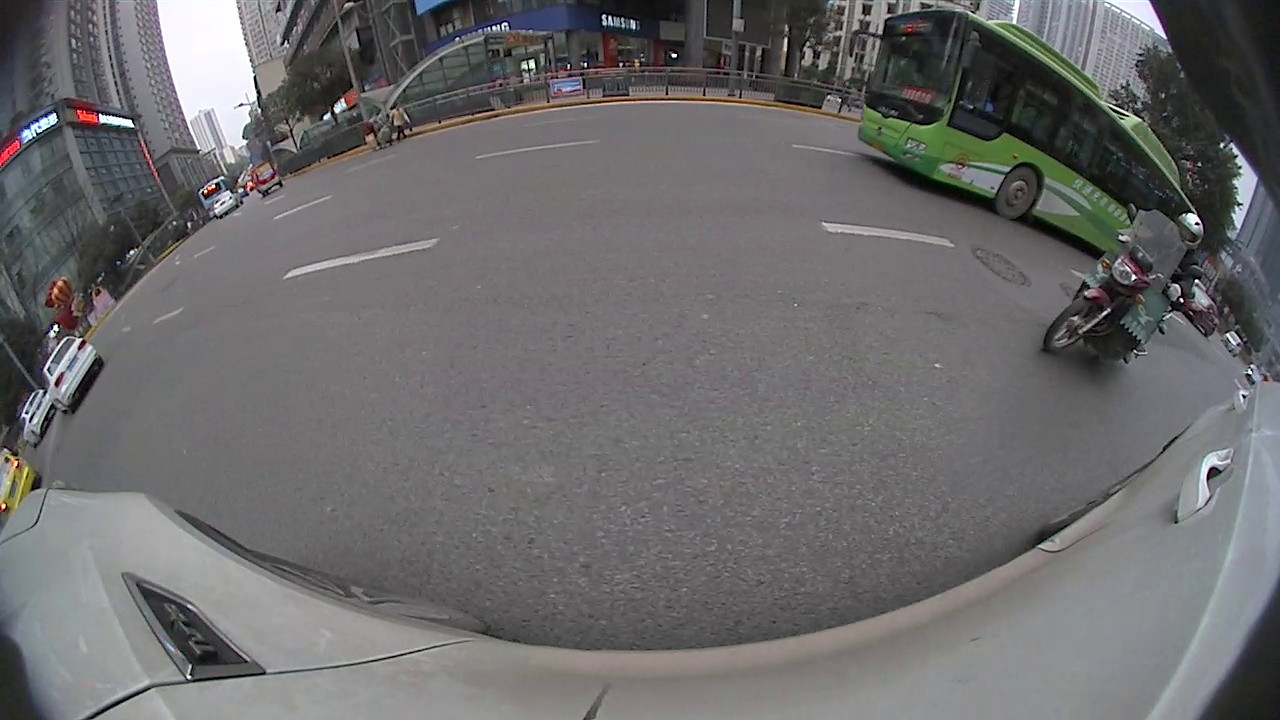bus: (855, 9, 1217, 244), (198, 178, 232, 209)
car: (41, 335, 103, 416), (2, 452, 42, 527), (23, 392, 59, 446), (212, 192, 244, 217)
front: (1043, 291, 1107, 357), (991, 163, 1041, 220)
person: (392, 100, 407, 140)
rider: (1041, 208, 1204, 360), (254, 161, 282, 198)
